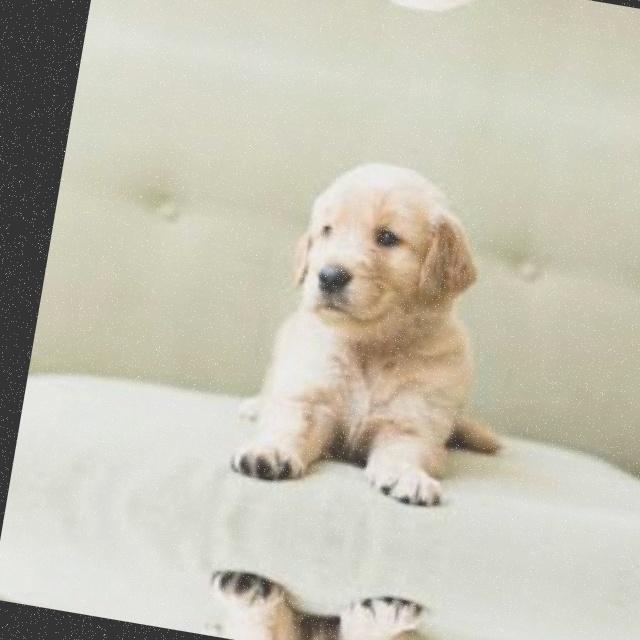dog: (225, 124, 540, 526), (200, 557, 467, 640), (304, 0, 568, 53)
